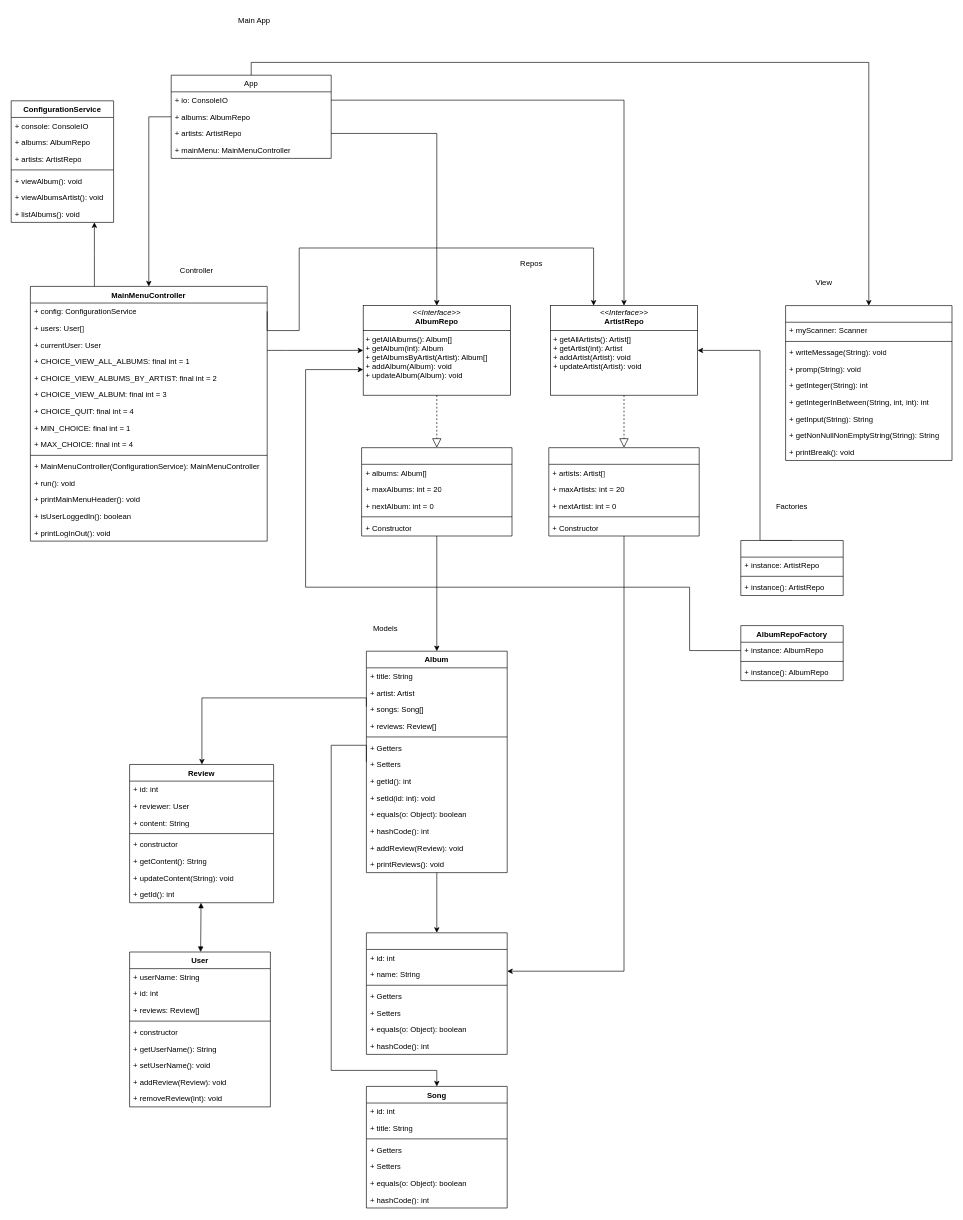
This 963x1220 diagram has some shape labels left out. The box of each missing label's shape, as (x1, y1, x2, y2) in pixels:
AlbumRepoInMemImpl: (361, 447, 512, 536)
Artist: (366, 932, 507, 1054)
ArtistRepoFactory: (740, 540, 843, 596)
ArtistRepoInMemImpl: (548, 447, 699, 536)
ConsoleIO: (785, 305, 952, 460)
